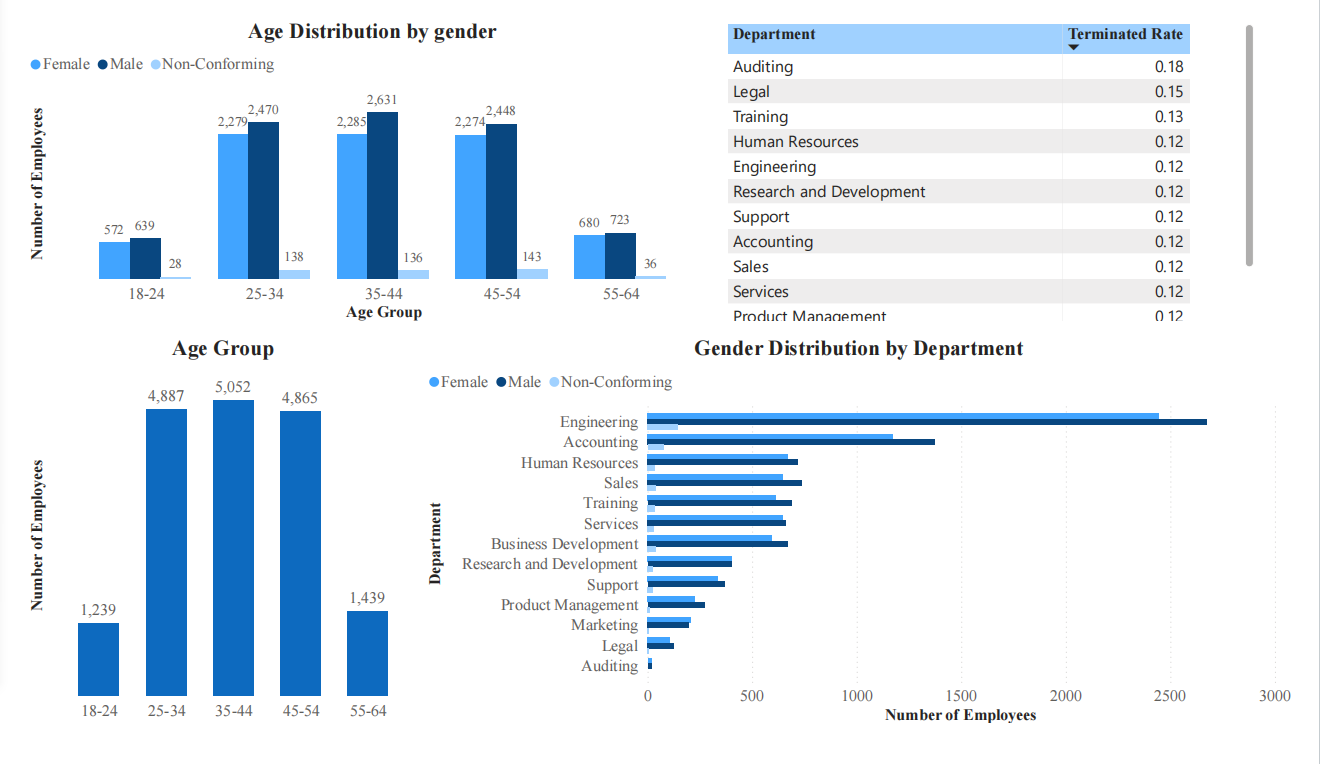

This screenshot's page, from the dashboard's own definition file:
{"tool":"powerbi","page":{"name":"第 2 页","canvas":[1280,720],"ordinal":1},"visuals":[{"type":"columnChart","title":"Age Group","fields":{"Category":["age.age_group"],"Y":["Sum(age.count)"]},"box":[10,317.2,398.1,390.6],"z":0},{"type":"clusteredColumnChart","title":"Age Distribution by gender","fields":{"Category":["age_gender.age_group"],"Y":["Sum(age_gender.count)"],"Series":["age_gender.gender"]},"box":[10,0,696.6,306],"z":1000},{"type":"tableEx","fields":{"Values":["terminated_rate.department","Sum(terminated_rate.terminated_rate)"]},"box":[706.6,0,536.1,306],"z":2000},{"type":"clusteredBarChart","title":"Gender Distribution by Department","fields":{"Category":["gender_department.department"],"Y":["Sum(gender_department.count)"],"Series":["gender_department.gender"]},"box":[408,317.2,872,390.6],"z":3000}]}

Visuals, with their boxes in screenshot pixels (x1, y1, x2, y2), scaled from the page's 1280x720 canvas onto the 1320x764 screenshot:
"Age Group" columnChart: (left=10, top=337, right=421, bottom=751)
"Age Distribution by gender" clusteredColumnChart: (left=10, top=0, right=729, bottom=325)
tableEx - terminated_rate.department x Sum(terminated_rate.terminated_rate): (left=729, top=0, right=1282, bottom=325)
"Gender Distribution by Department" clusteredBarChart: (left=421, top=337, right=1319, bottom=751)
